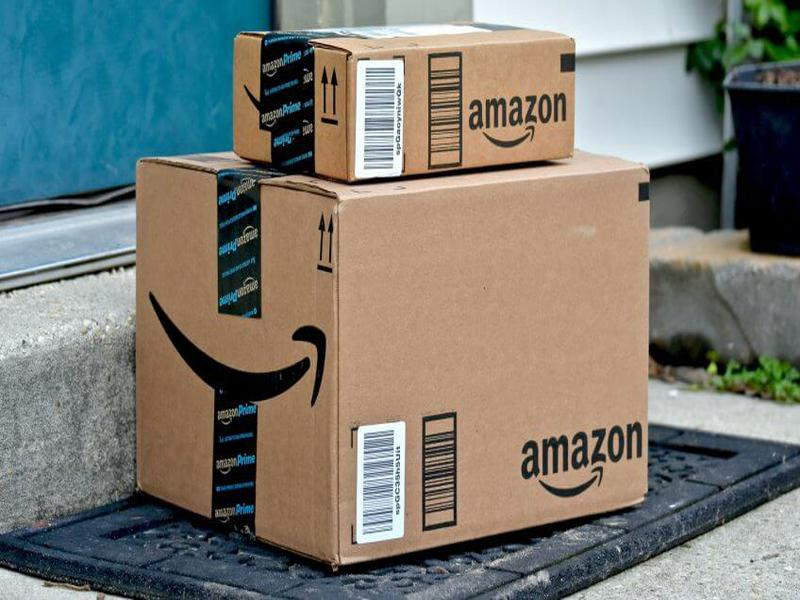package: (127, 148, 657, 573), (220, 13, 585, 185)
